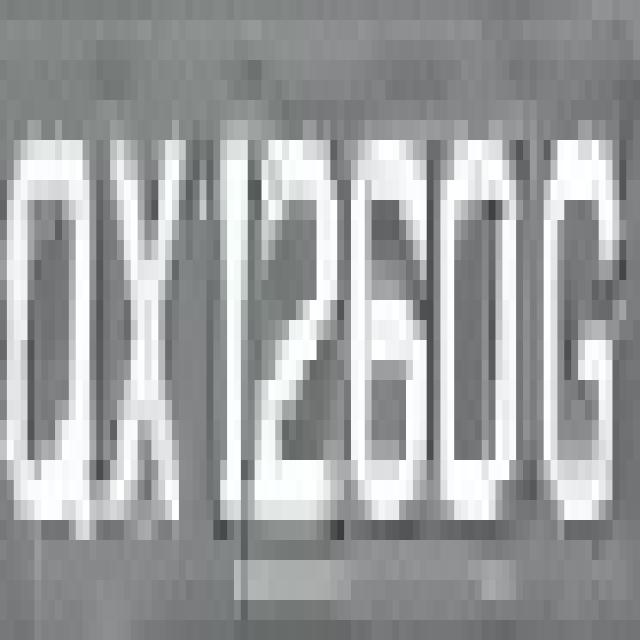0: (427, 100, 523, 540)
1: (207, 80, 254, 560)
2: (248, 100, 337, 560)
6: (331, 100, 434, 600)
G: (530, 100, 633, 540)
Q: (7, 60, 96, 520)
X: (89, 80, 186, 540)
